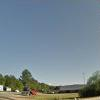Tree: (75, 68, 100, 100)
